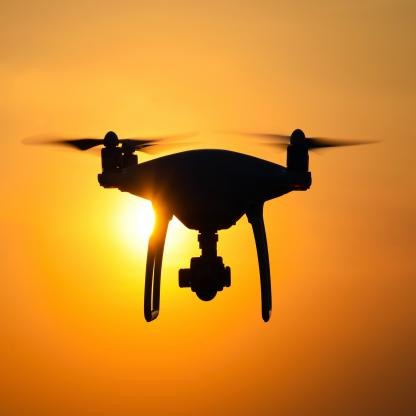drone: (37, 116, 397, 253)
